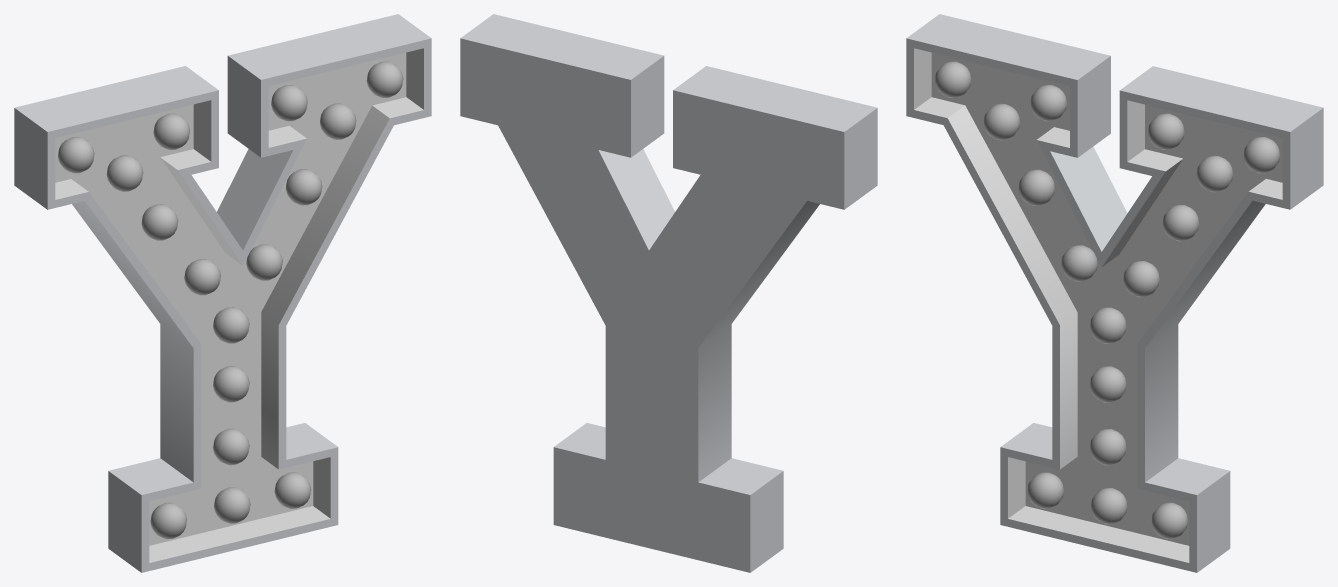
Rendered from LettersBulb01_Y.FBX.
3 views of the same model, side by side, from view 1: azimuth 30°, elevation 25°; view 2: azimuth 150°, elevation 25°; view 3: azimuth 330°, elevation 25° (orthographic).
Visible parts, largest first — view 1: LettersBulb01_Y; view 2: LettersBulb01_Y; view 3: LettersBulb01_Y.
Boxes of the visible parts, left/top/right/bottom form: LettersBulb01_Y: left=14, top=14, right=431, bottom=572; LettersBulb01_Y: left=460, top=14, right=877, bottom=572; LettersBulb01_Y: left=906, top=14, right=1323, bottom=572.
Size of what is drawn, in the model's own units: 1.04 by 1.2 by 0.1563.
